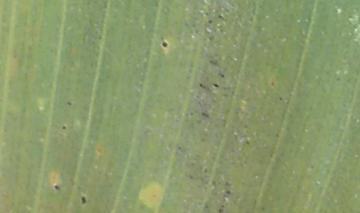tarspot: (199, 111, 209, 119), (80, 194, 86, 206), (160, 40, 169, 48), (225, 187, 232, 197), (65, 100, 73, 107), (53, 184, 61, 191), (205, 18, 213, 25), (217, 11, 224, 19), (213, 82, 220, 88), (198, 82, 204, 89), (220, 72, 226, 79), (60, 124, 66, 130), (219, 207, 224, 213)
